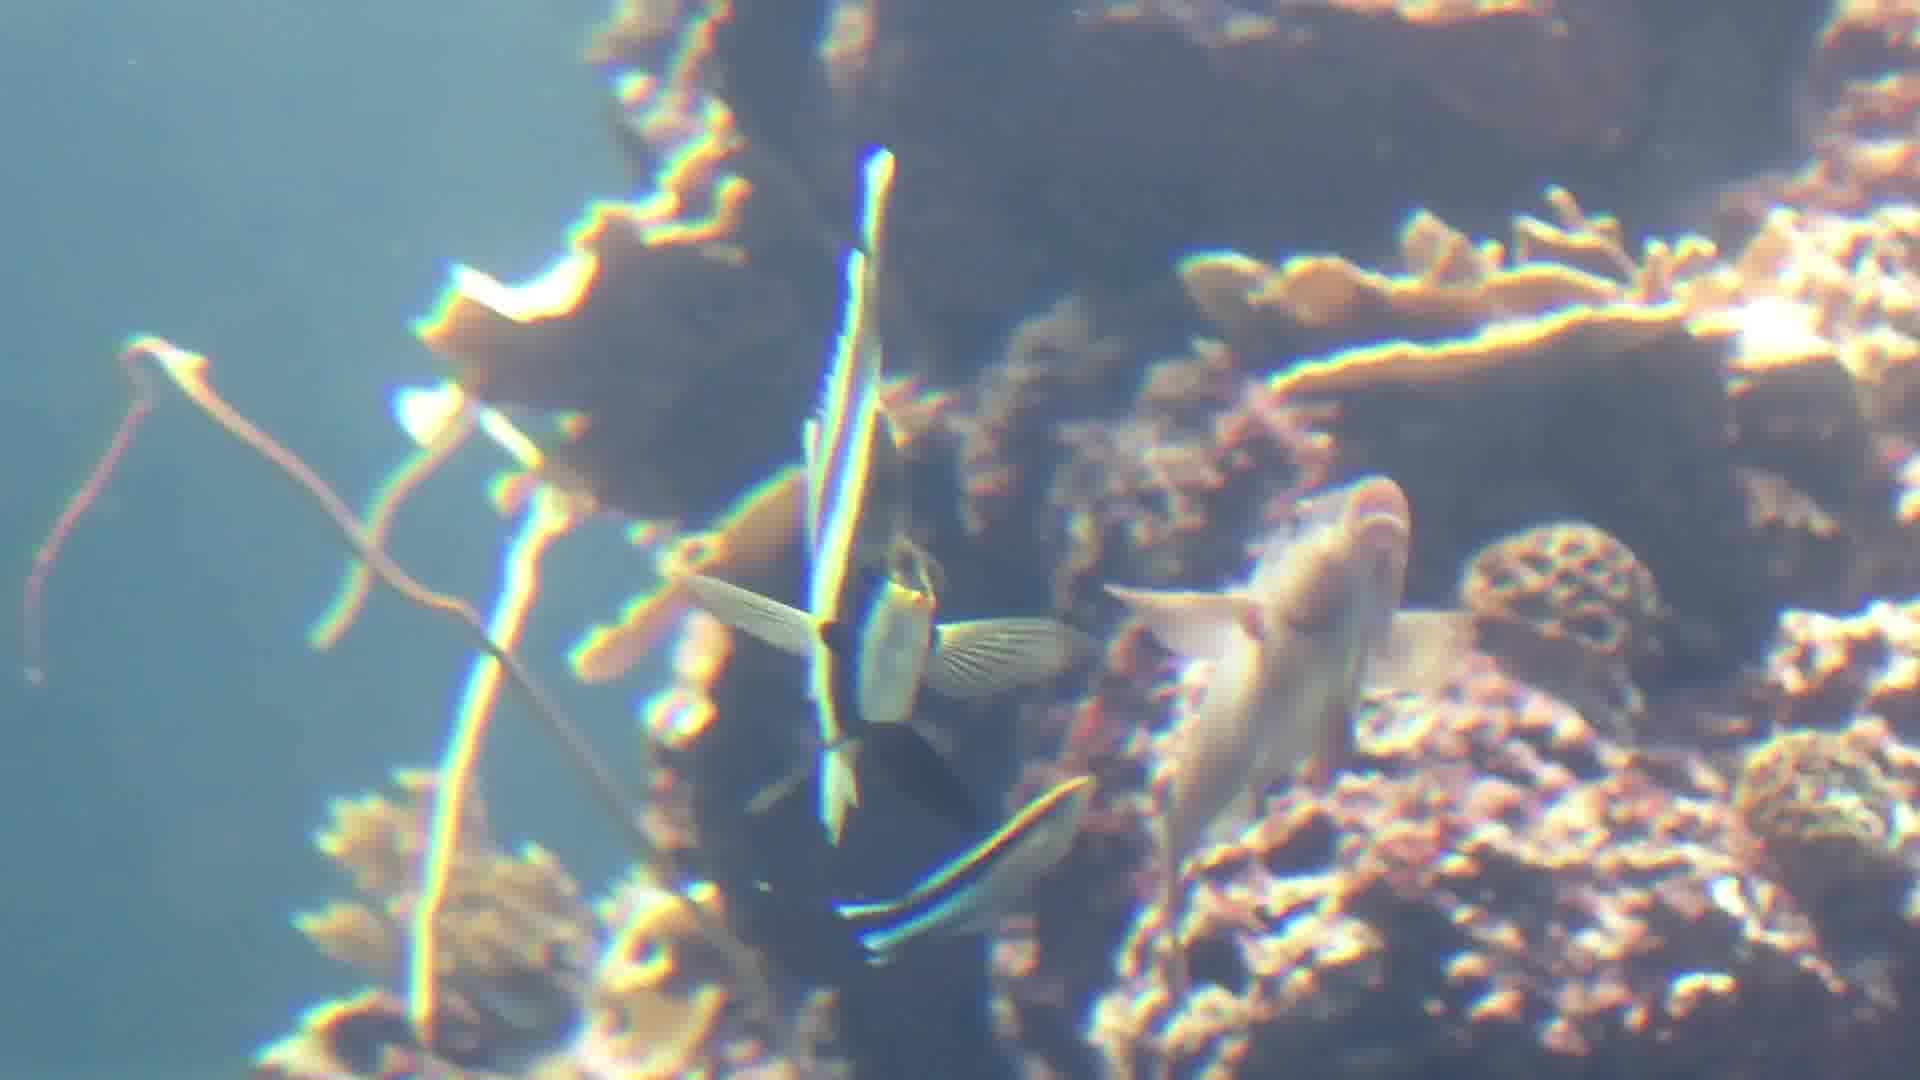Heniochus chrysostomus: (632, 117, 1075, 860)
